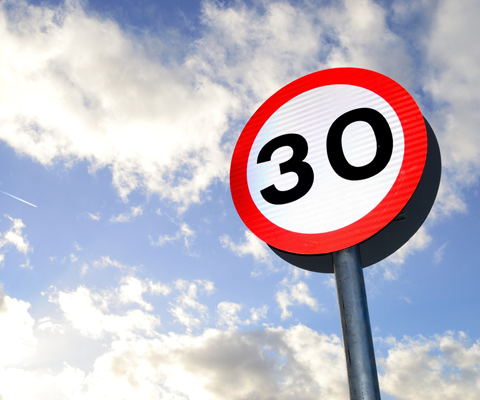Speed_limit_30km: (228, 67, 427, 254)
